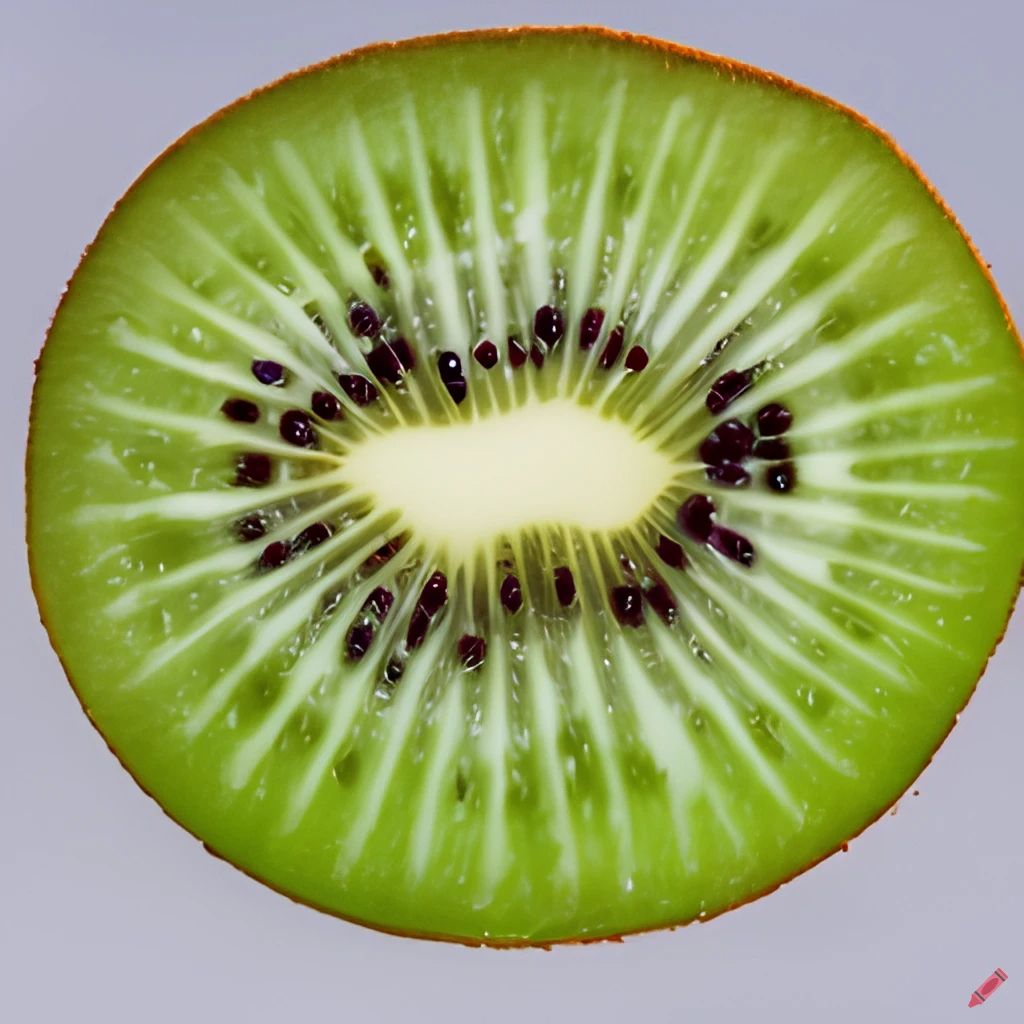Kiwi: (15, 42, 1014, 944)
